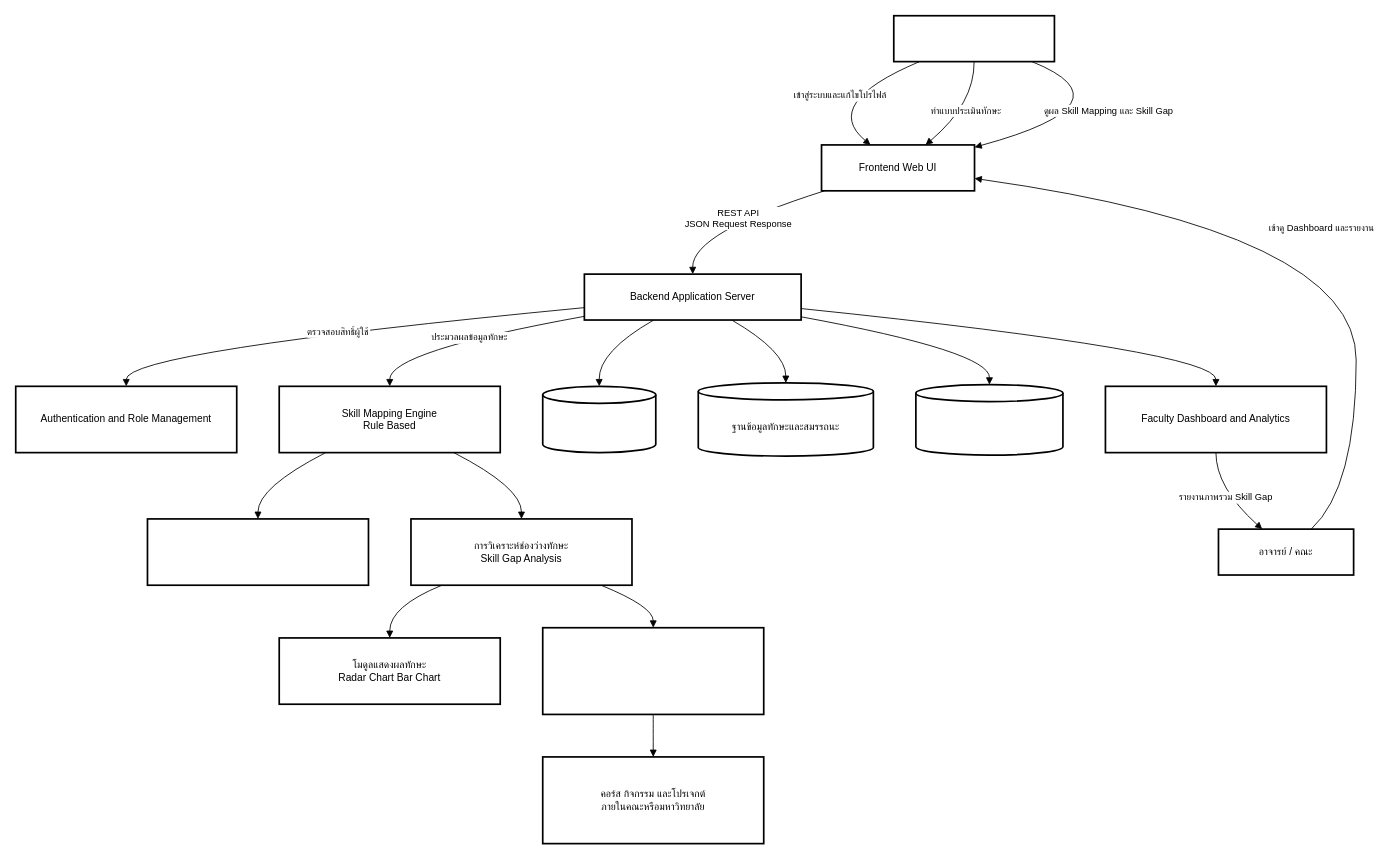
The diagram is 1390 pixels wide and 859 high, and some of its shapes have lost their labels. Each missing label, with the centre of its shape:
Career Profile และมาตรฐานทักษะ IEEE ACM งานวิจัย: point 257,552
ฐานข้อมูลผลการประเมิน: point 989,419
ฐานข้อมูลผู้ใช้งาน: point 598,419
นักศึกษา / ผู้ใช้งาน: point 973,38
ระบบแนะนำเส้นทางพัฒนาทักษะ Skill Development Pathway: point 652,670
